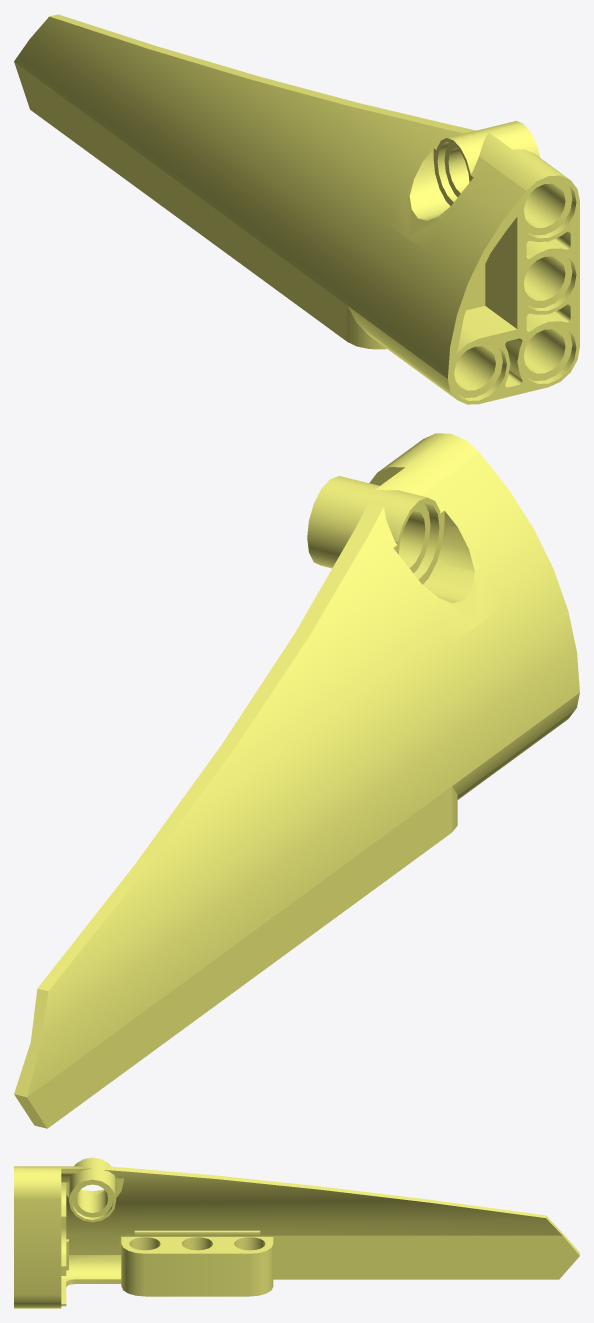
3 renders of one model, top to bottom at view 1: azimuth 30°, elevation 25°; view 2: azimuth 150°, elevation 25°; view 3: azimuth 270°, elevation 25°, orthographic. The views are drawn at different scales.
Parts seen in each view (by area): view 1: 64681.dat; view 2: 64681.dat; view 3: 64681.dat.
Part boxes in pixels (<box>): 64681.dat: <box>14,14,579,404</box>; 64681.dat: <box>14,433,579,1128</box>; 64681.dat: <box>14,1157,579,1308</box>.
Bounding box in the file's own units: 0.0156 × 0.0236 × 0.0864.
